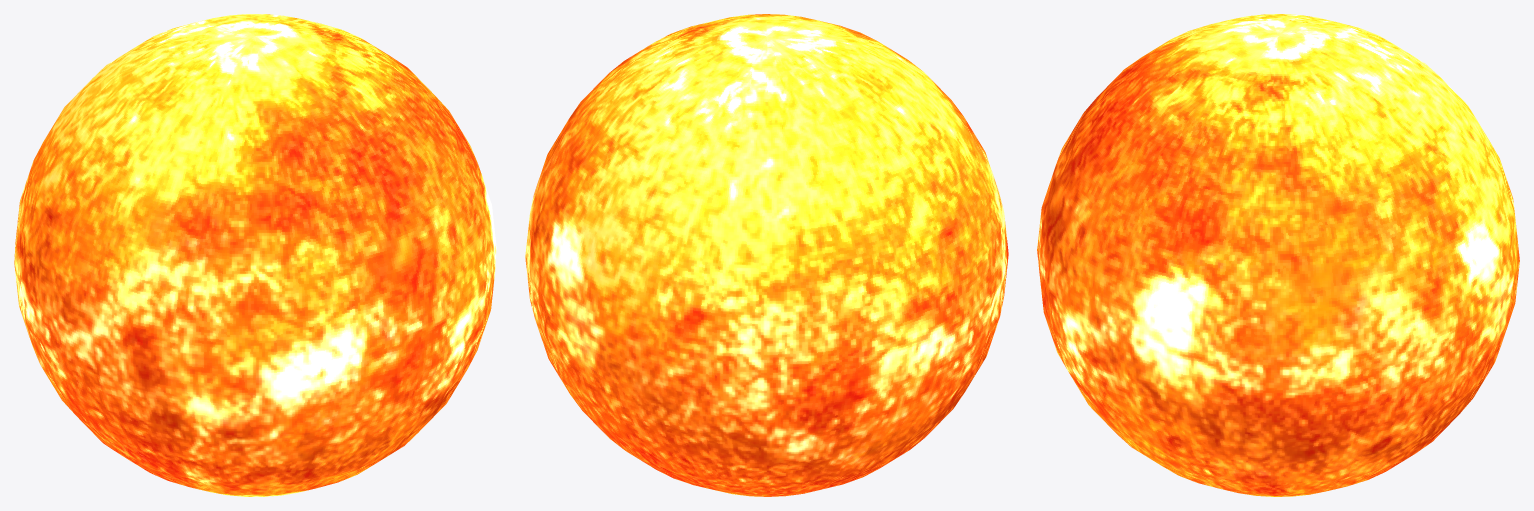
File: soleil.glb
3 renders of one model, left to right at view 1: azimuth 30°, elevation 25°; view 2: azimuth 150°, elevation 25°; view 3: azimuth 270°, elevation 25°, orthographic.
Parts seen in each view (by area): view 1: sun_sun_0; view 2: sun_sun_0; view 3: sun_sun_0.
Boxes of the visible parts, x1,y1,x2,y2 form: sun_sun_0: (14,14,496,496); sun_sun_0: (525,14,1008,496); sun_sun_0: (1037,14,1519,496).
Size of the model in its own units: 48.76 by 48.83 by 48.76.
Materials: 1 (1 with a texture image).
